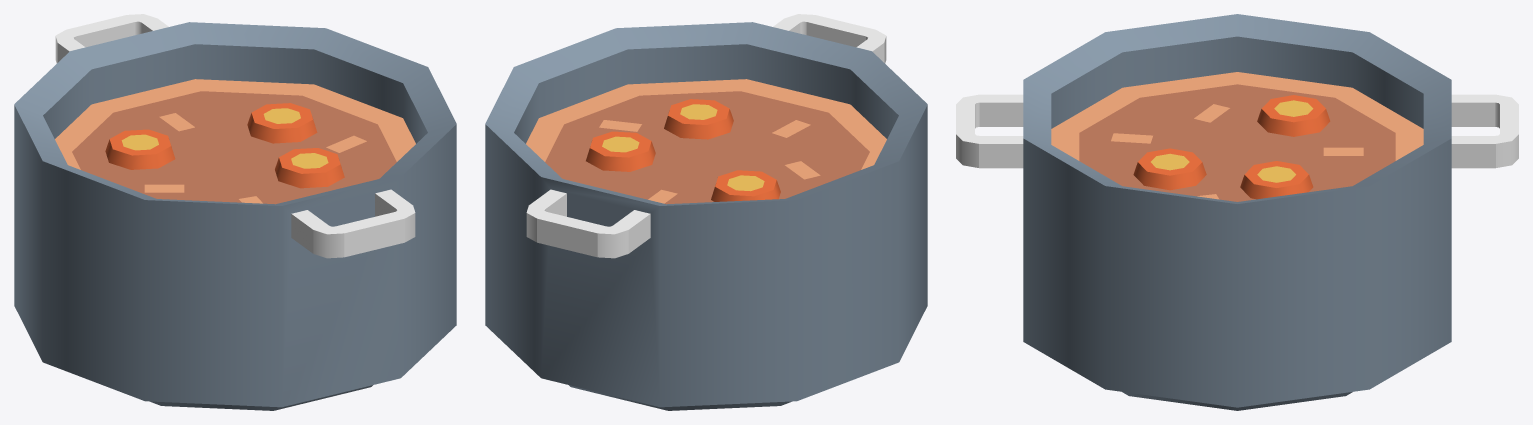
File: potStew.GLB
The picture shows the model from 3 angles, left to right: view 1: azimuth 30°, elevation 25°; view 2: azimuth 150°, elevation 25°; view 3: azimuth 270°, elevation 25°; orthographic projection.
Parts seen in each view (by area): view 1: potStew; view 2: potStew; view 3: potStew.
Part boxes in pixels (x1=…): potStew: x1=14, y1=14, x2=456, y2=410; potStew: x1=485, y1=14, x2=927, y2=410; potStew: x1=956, y1=14, x2=1518, y2=410.
Size of the model in its own units: 0.6574 by 0.3608 by 0.8221.
